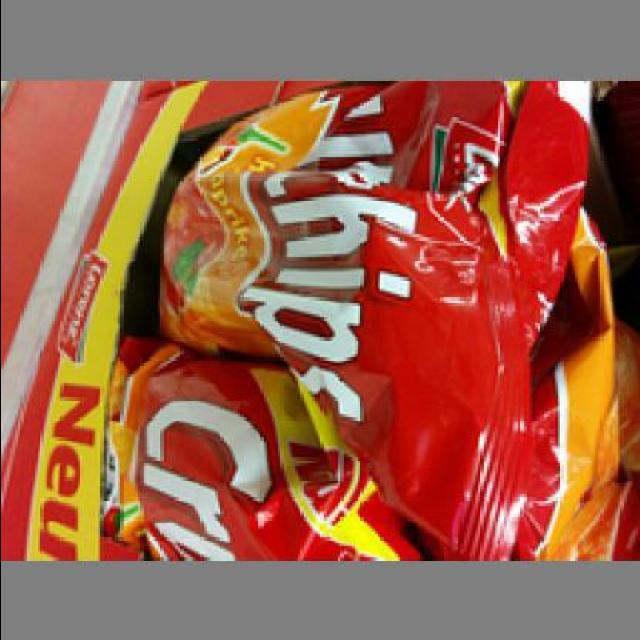Chips: (147, 77, 590, 557)
